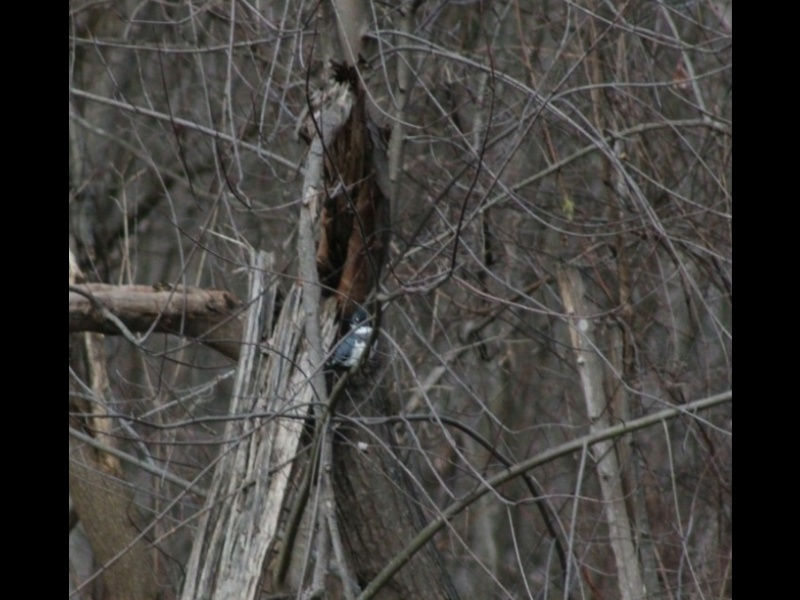kingfisher: (333, 309, 376, 368)
